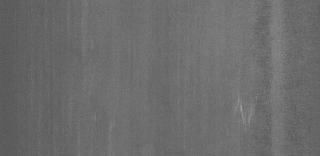silk spot: (226, 88, 262, 132)
